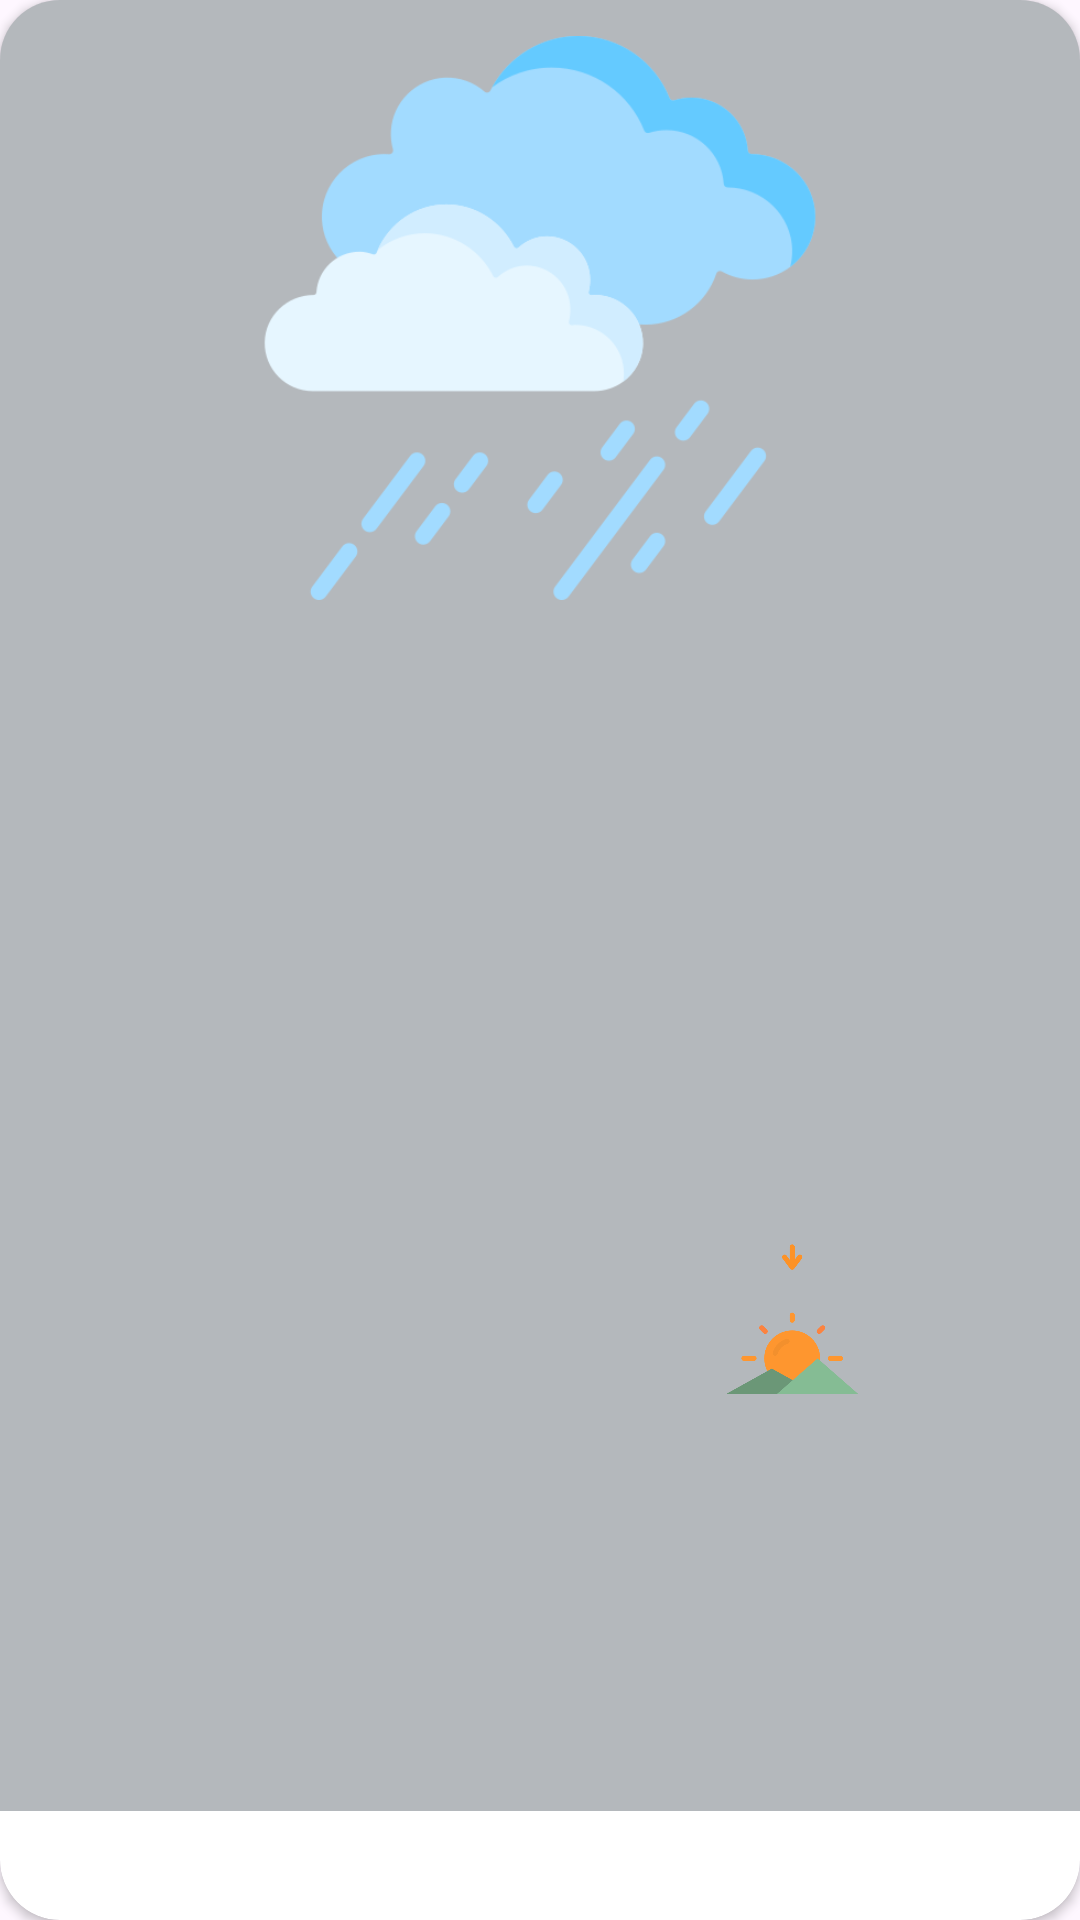

Icon click points for this 1080*1920 phone screenshot, format (x,y):
sun down: (792,1319)
